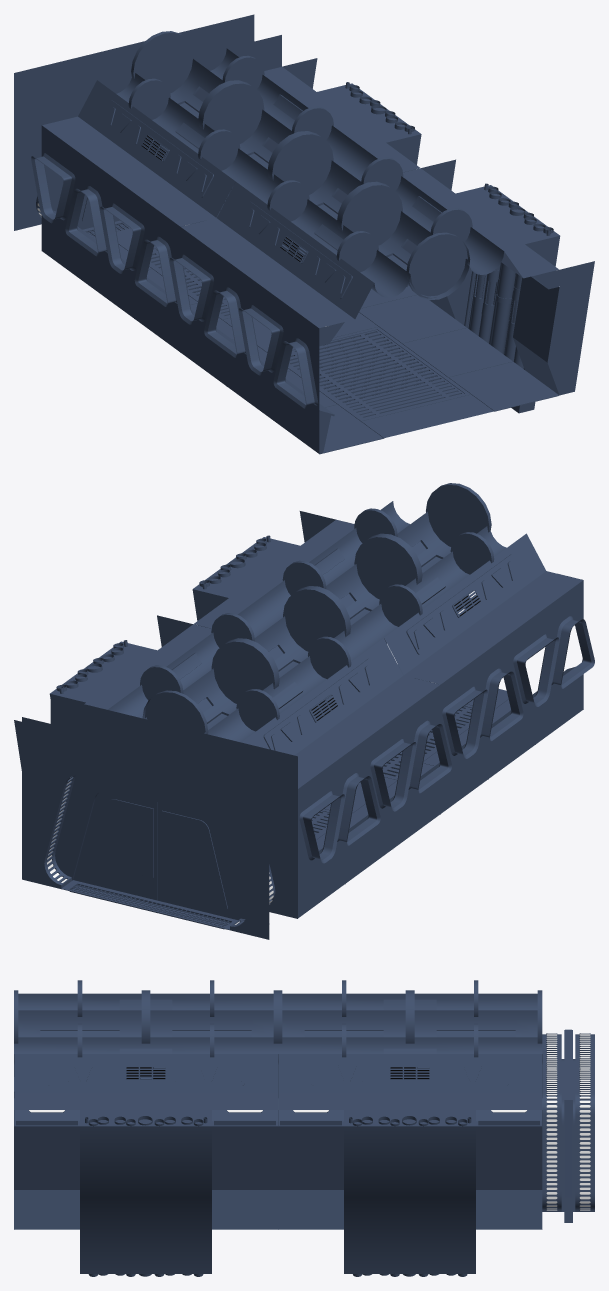
Rendered from ImpBase.fbx.
3 renders of one model, top to bottom at view 1: azimuth 30°, elevation 25°; view 2: azimuth 150°, elevation 25°; view 3: azimuth 270°, elevation 25°, orthographic. The views are drawn at different scales.
Visible parts, largest first — view 1: CorridorDoorframe; view 2: CorridorDoorframe; view 3: CorridorDoorframe.
Boxes of the visible parts, x1,y1,x2,y2 form: CorridorDoorframe: [14, 14, 594, 454]; CorridorDoorframe: [14, 483, 594, 939]; CorridorDoorframe: [14, 980, 594, 1276].
Size of the model in its own units: 719 by 562 by 1320.
